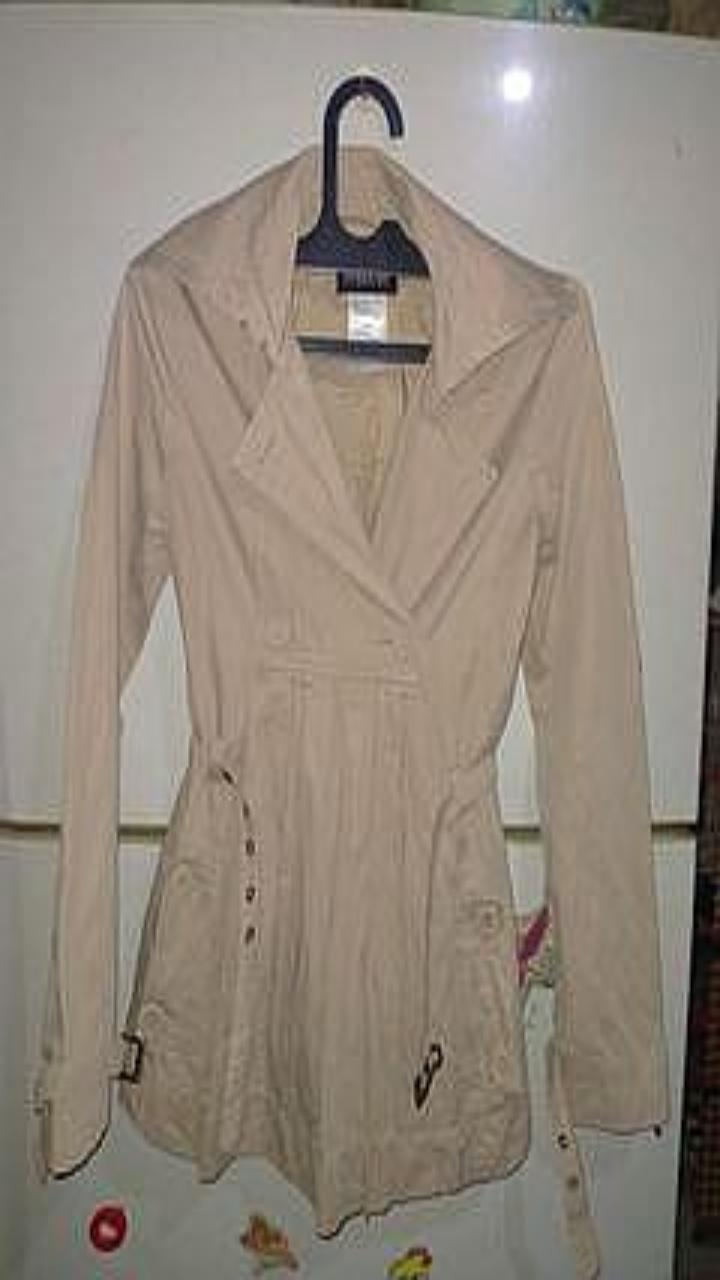Coat: (35, 144, 668, 1274)
